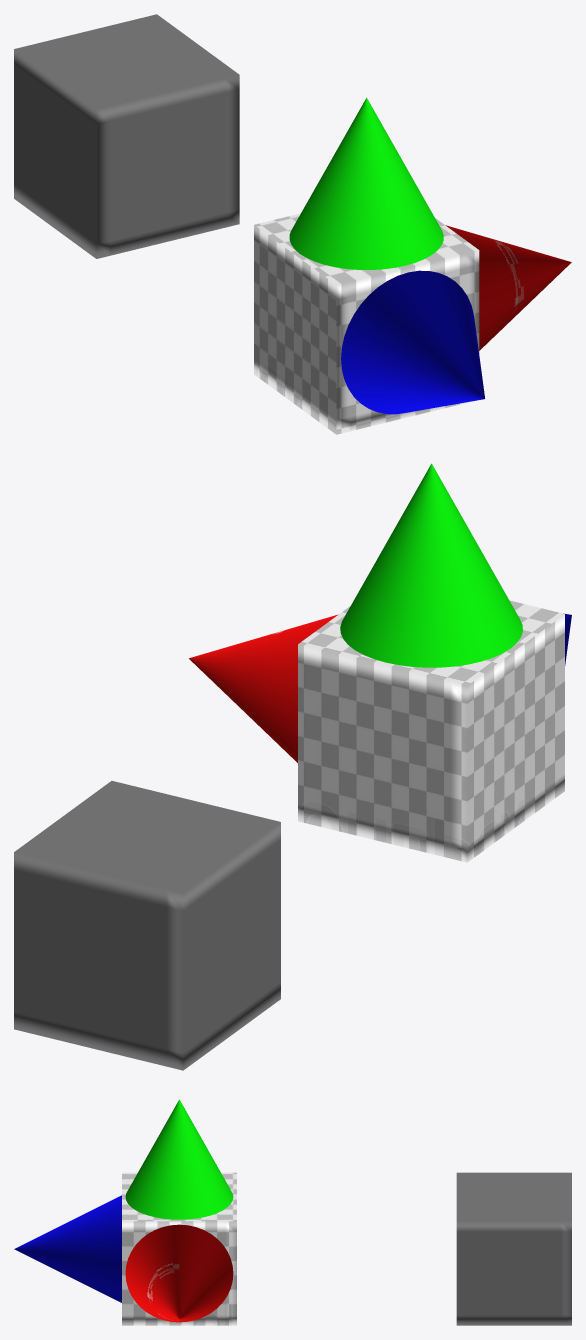
The model's file is Boxes-Only.dae.
3 views of the same model, one above another, from view 1: azimuth 30°, elevation 25°; view 2: azimuth 150°, elevation 25°; view 3: azimuth 270°, elevation 25° (orthographic). The views are drawn at different scales.
Visible parts, largest first — view 1: Cube_2, Cube_1, Cone_3, Cone_1, Cone_2; view 2: Cube_2, Cube_1, Cone_1, Cone_2; view 3: Cube_2, Cone_2, Cone_1, Cone_3, Cube_1.
Part boxes in pixels (x1,y1,x2,y2): Cube_2: (14, 14, 239, 258); Cube_1: (254, 213, 479, 434); Cone_3: (341, 270, 484, 414); Cone_1: (289, 97, 443, 269); Cone_2: (445, 225, 571, 350); Cube_2: (14, 781, 280, 1070); Cube_1: (298, 600, 564, 862); Cone_1: (340, 463, 522, 667); Cone_2: (189, 614, 338, 762); Cube_2: (456, 1172, 571, 1325); Cone_2: (125, 1224, 233, 1322); Cone_1: (125, 1099, 233, 1219); Cone_3: (14, 1195, 121, 1302); Cube_1: (122, 1172, 236, 1325).
Bounding box in the file's own units: 1.01 × 1.01 × 2.54.
Materials: 5 (5 with a texture image).
